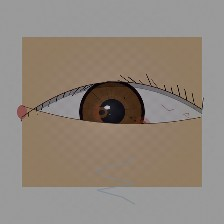foreign_body_visible: (86, 99, 118, 125)
